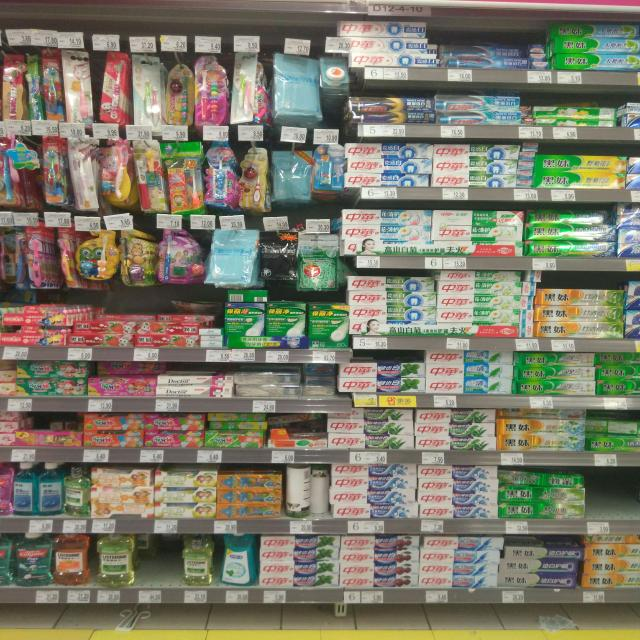unorganised: (496, 469, 588, 488), (442, 41, 524, 60), (586, 416, 639, 437), (266, 414, 325, 428), (47, 416, 84, 431), (138, 532, 157, 557)
